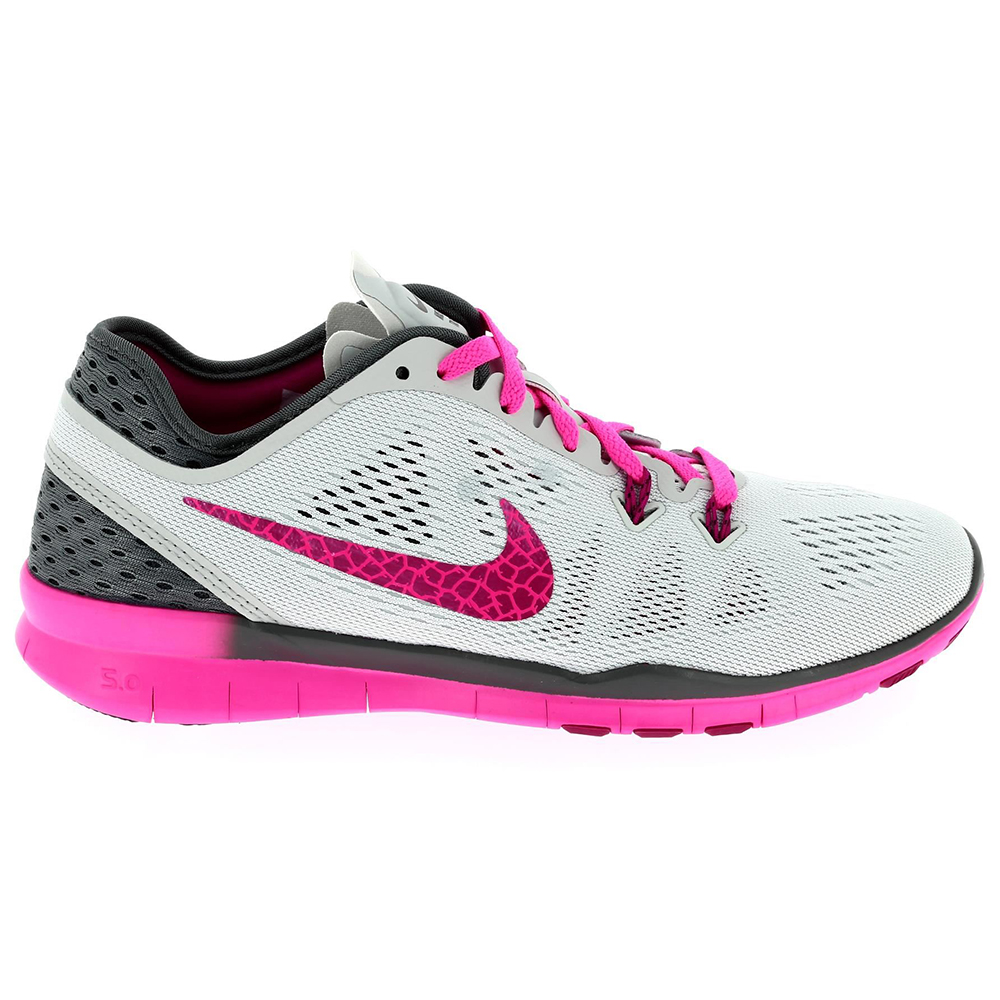Nike: (170, 483, 568, 627)
